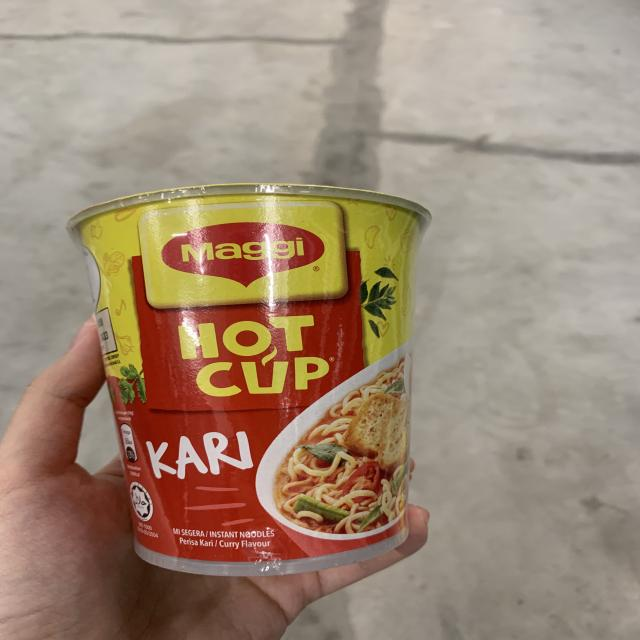object_name: (81, 199, 415, 572)
